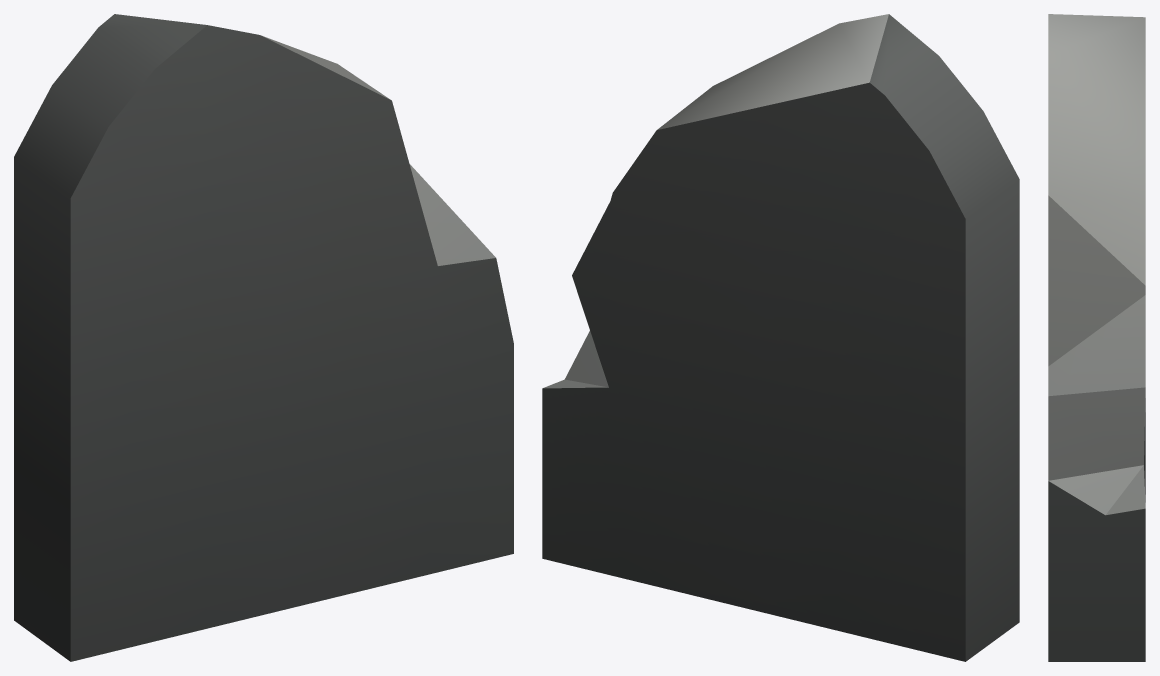
Rendered from Mezarlık.fbx.
The picture shows the model from 3 angles, left to right: view 1: azimuth 30°, elevation 25°; view 2: azimuth 150°, elevation 25°; view 3: azimuth 270°, elevation 25°; orthographic projection. The views are drawn at different scales.
Parts seen in each view (by area): view 1: Mezarlık; view 2: Mezarlık; view 3: Mezarlık.
Part boxes in pixels (x1,y1,x2,y2): Mezarlık: [14, 14, 513, 661]; Mezarlık: [542, 14, 1019, 661]; Mezarlık: [1048, 14, 1145, 661].
Bounding box in the file's own units: 200 × 260 × 44.28.
